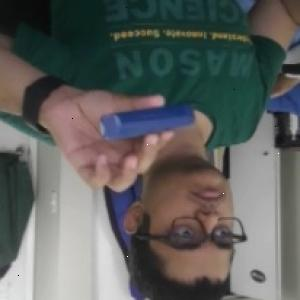Diamond-E-Ciggirate: (93, 102, 198, 144)
